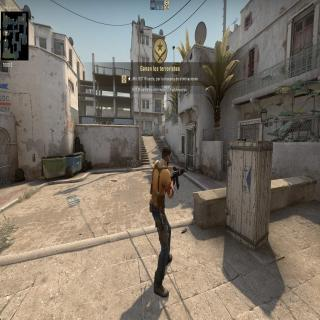T-Head: (161, 144, 172, 168)
